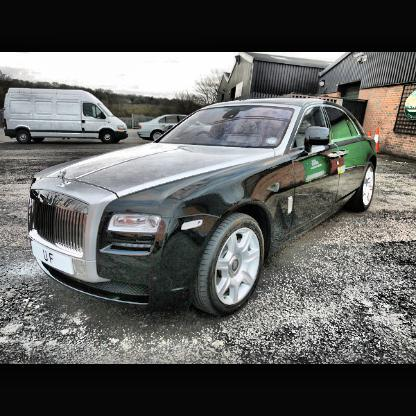Rolls-Royce Ghost Sedan 2012: (28, 99, 381, 320)
